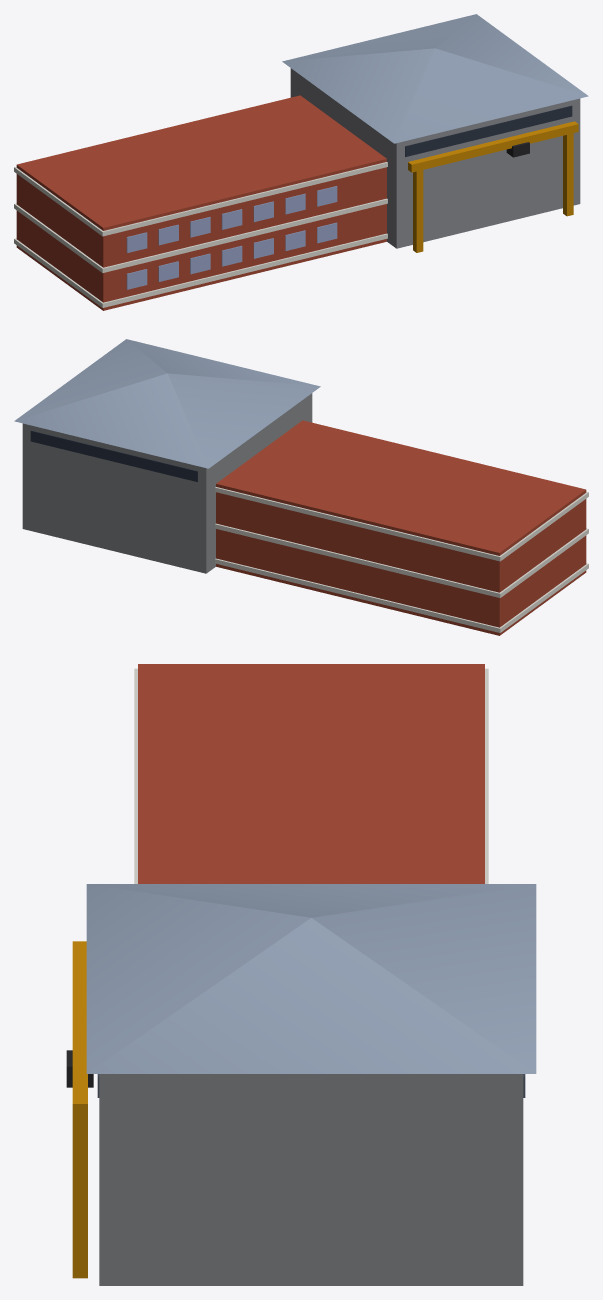
Rendered from civil-building.glb.
3 renders of one model, top to bottom at view 1: azimuth 30°, elevation 25°; view 2: azimuth 150°, elevation 25°; view 3: azimuth 270°, elevation 25°, orthographic. The views are drawn at different scales.
Parts seen in each view (by area): view 1: Civil_Engineering_Complex; view 2: Civil_Engineering_Complex; view 3: Civil_Engineering_Complex.
Part boxes in pixels (x1,y1,x2,y2): Civil_Engineering_Complex: (14,14,588,310); Civil_Engineering_Complex: (14,339,588,635); Civil_Engineering_Complex: (66,664,536,1285).
Size of the model in its own units: 56.87 by 16.25 by 24.37.
